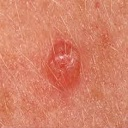Carcinoma: (46, 42, 84, 85)
